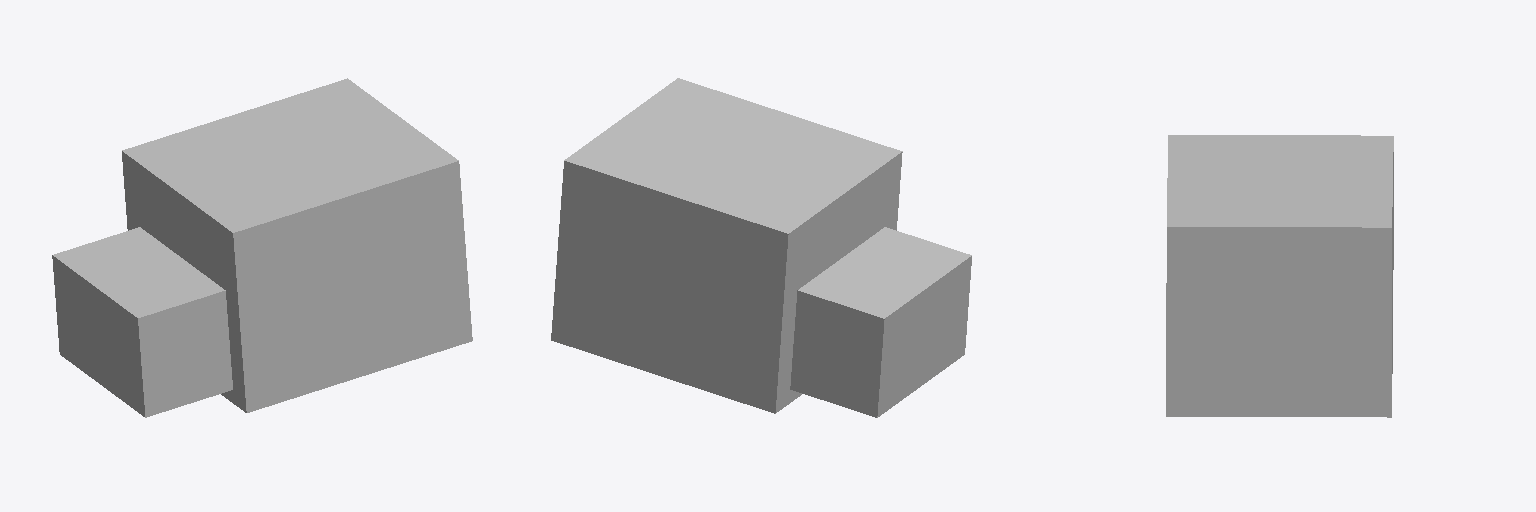
File: tete.obj
3 renders of one model, left to right at view 1: azimuth 30°, elevation 25°; view 2: azimuth 150°, elevation 25°; view 3: azimuth 270°, elevation 25°, orthographic.
Visible parts, largest first — view 1: Cube.007, Cube.008; view 2: Cube.007, Cube.008; view 3: Cube.007.
Boxes of the visible parts, box(x1,y1,x2,y2) form: Cube.007: box(122, 78, 472, 412); Cube.008: box(52, 227, 232, 417); Cube.007: box(551, 78, 902, 413); Cube.008: box(790, 227, 971, 417); Cube.007: box(1166, 135, 1393, 417).
Size of the model in its own units: 1.86 by 1.11 by 1.14.